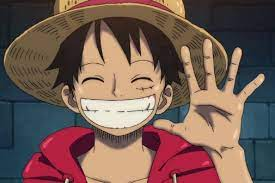Luffy: (59, 2, 185, 135)
